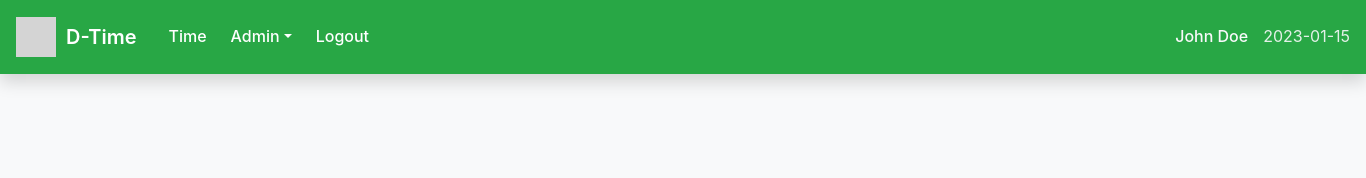
Test: NavigationMenu › User (non-admin) navigation › should show limited admin dropdown options for non-admin users
Click the button "Admin".
click(261, 37)  # box 223,16 -> 300,58
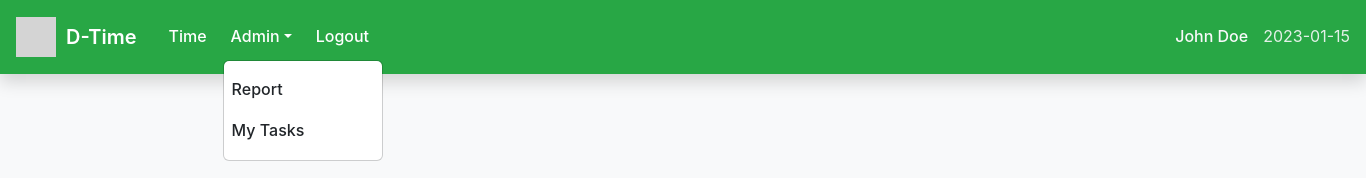
Result: the link "Report" is shown at 232,79 -> 283,99
Result: the link "My Tasks" is shown at 232,120 -> 304,140
